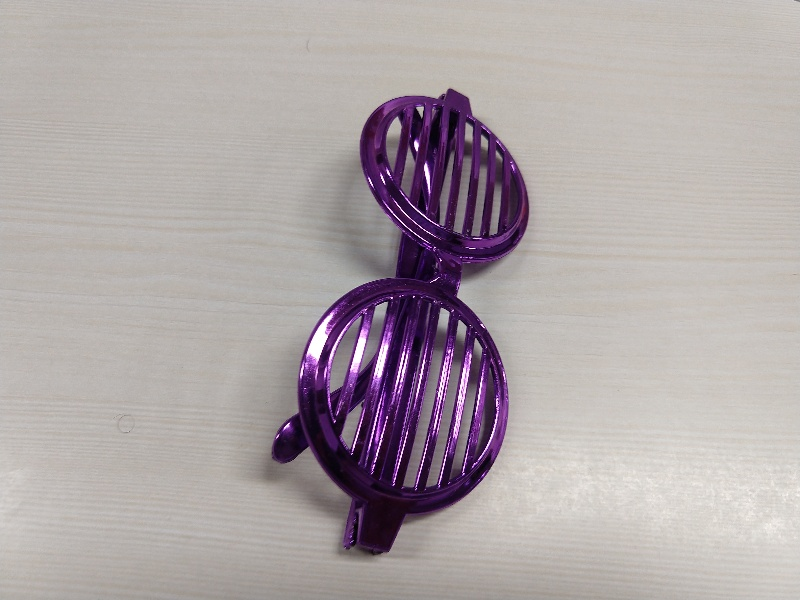shades: (246, 86, 533, 557)
